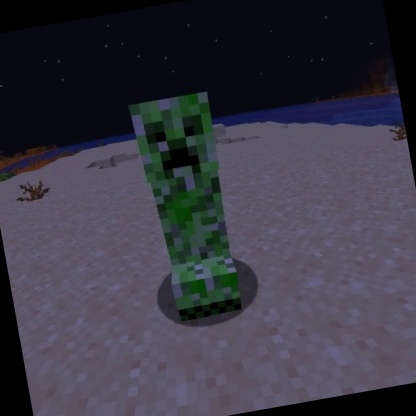creeper: (124, 86, 253, 330)
